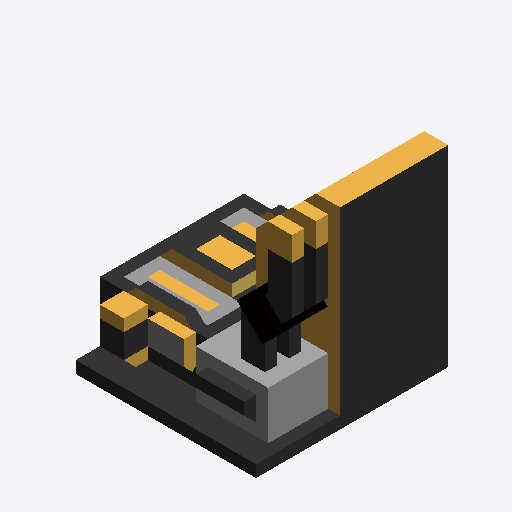
Isometric view (azimuth 45°, elevation 35.3°) of a Minecraft model made of 48 cuboids, textured from the same repository.
Parts seen in each view (by area): element 2, element 1, element 31, element 20, element 46, element 13, element 34, element 8, element 48, element 36, element 23, element 38 (+4 smaller).
Boxes of the visible parts, box(x1,y1,x2,y2) form: element 2: box(316, 131, 447, 414); element 1: box(76, 346, 447, 477); element 31: box(196, 320, 327, 442); element 20: box(112, 201, 267, 331); element 46: box(172, 222, 255, 296); element 13: box(268, 215, 303, 317); element 34: box(100, 291, 147, 359); element 8: box(292, 201, 327, 303); element 48: box(237, 282, 327, 343); element 36: box(148, 312, 195, 366); element 23: box(100, 270, 219, 387); element 38: box(196, 367, 255, 414).
Bounding box in the file's own units: 16 × 16 × 16.